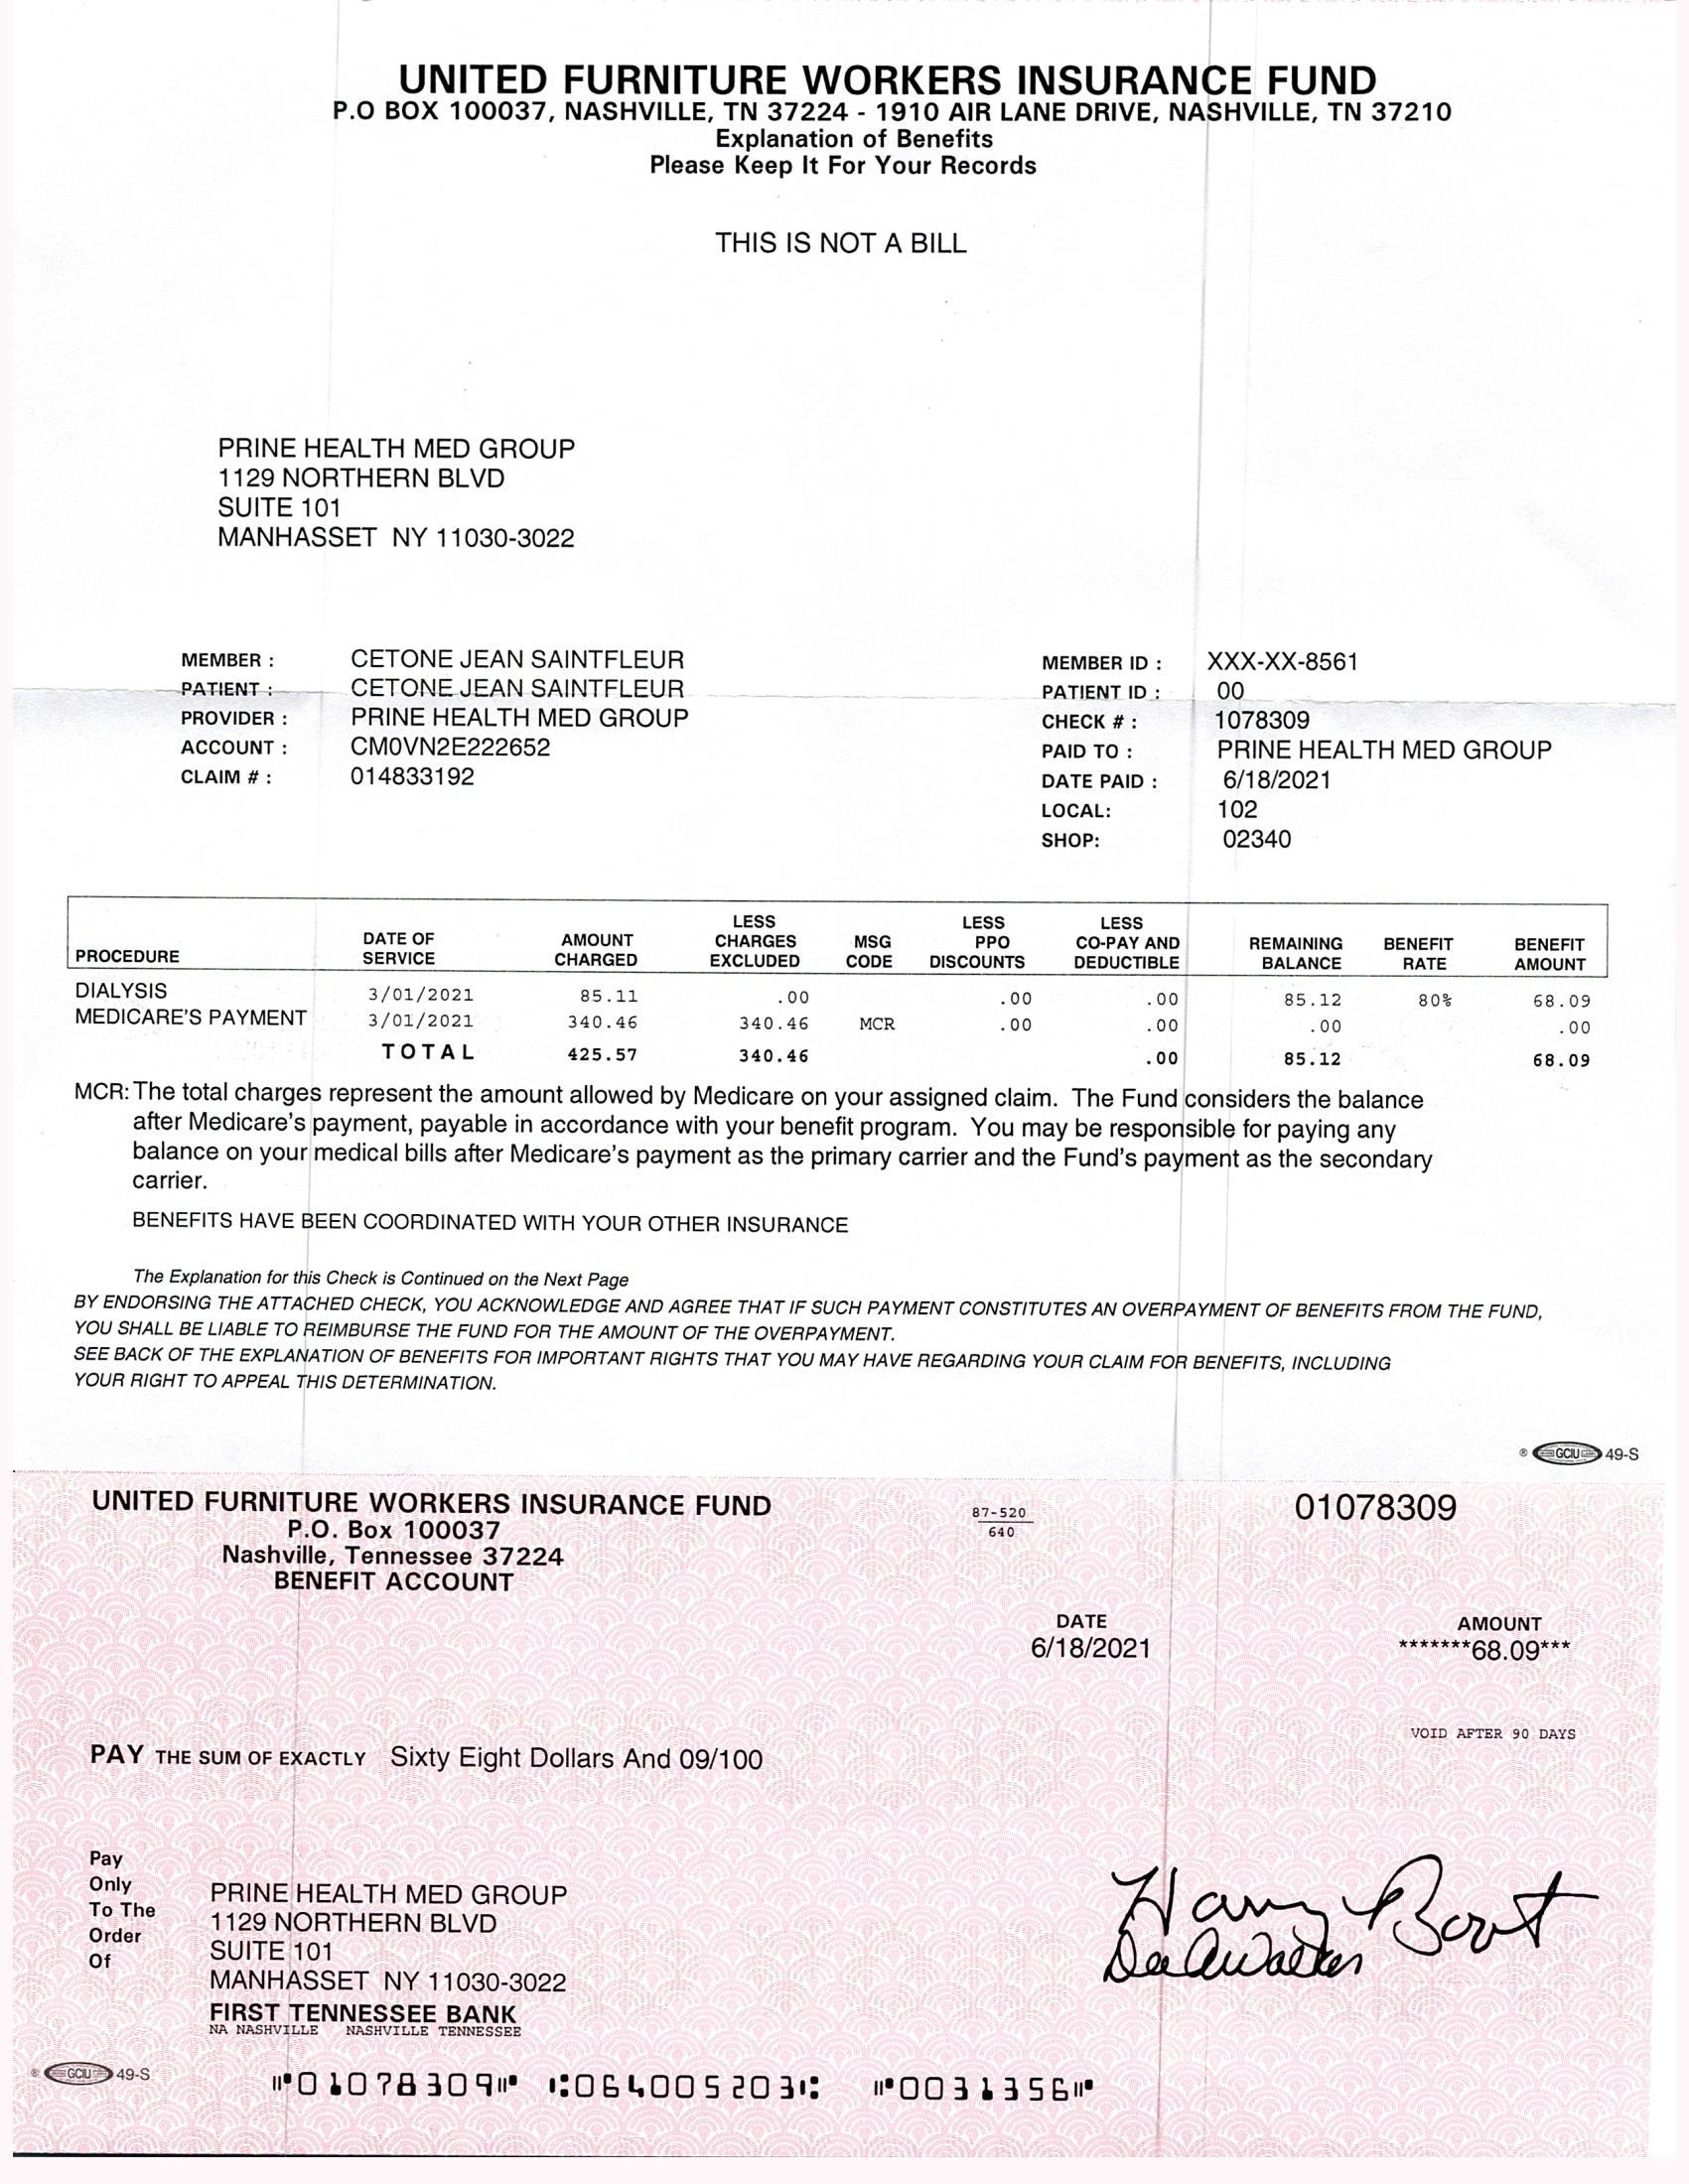data: (1026, 629, 1572, 858), (152, 617, 743, 823), (190, 408, 624, 574)
table: (28, 879, 1620, 1078)
